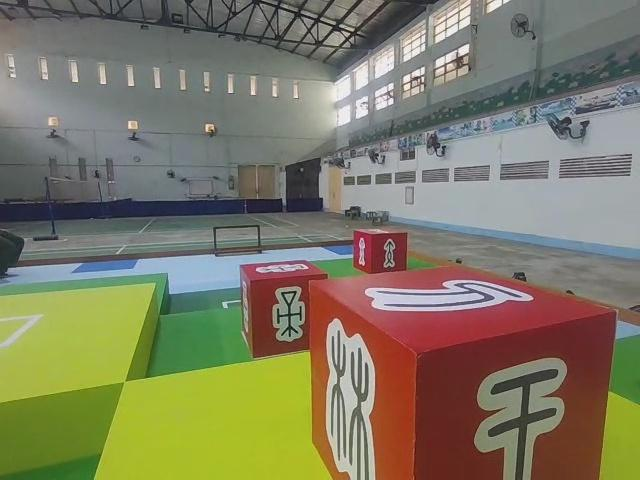R2 Fake: (309, 265, 619, 480)
R2 Real: (239, 262, 326, 358), (353, 225, 410, 274)
